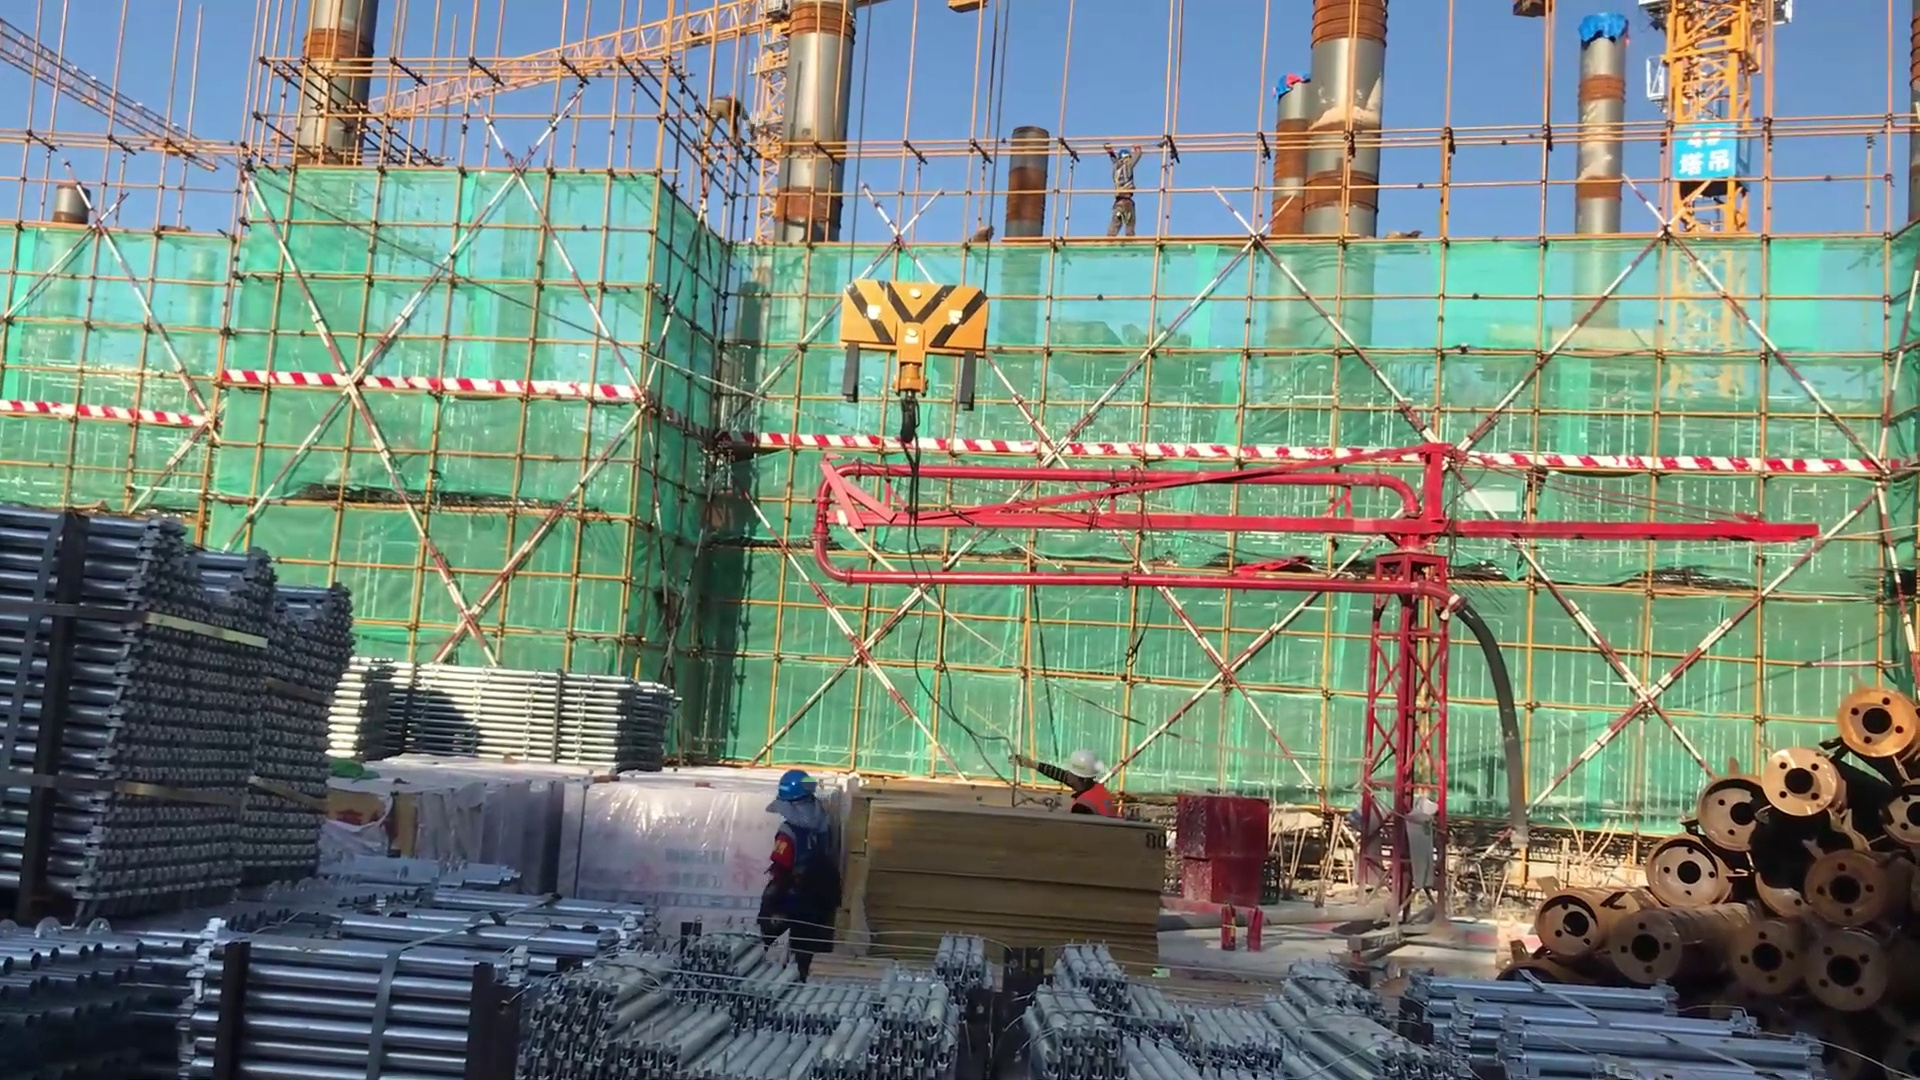board: (851, 794, 1159, 979)
helmet: (1052, 737, 1108, 793), (773, 755, 827, 809), (1114, 142, 1140, 166)
hook: (829, 270, 1015, 469)
person: (758, 758, 840, 991), (1007, 746, 1136, 832), (1099, 137, 1148, 245)
scaffold: (1, 527, 388, 903), (237, 837, 643, 1080), (516, 931, 1028, 1080), (1020, 934, 1454, 1080), (1, 873, 261, 1079), (1404, 970, 1811, 1080), (313, 664, 686, 774)
slogan: (1665, 128, 1751, 189)
vest: (767, 818, 836, 939), (1067, 782, 1128, 821), (1111, 161, 1138, 198)
